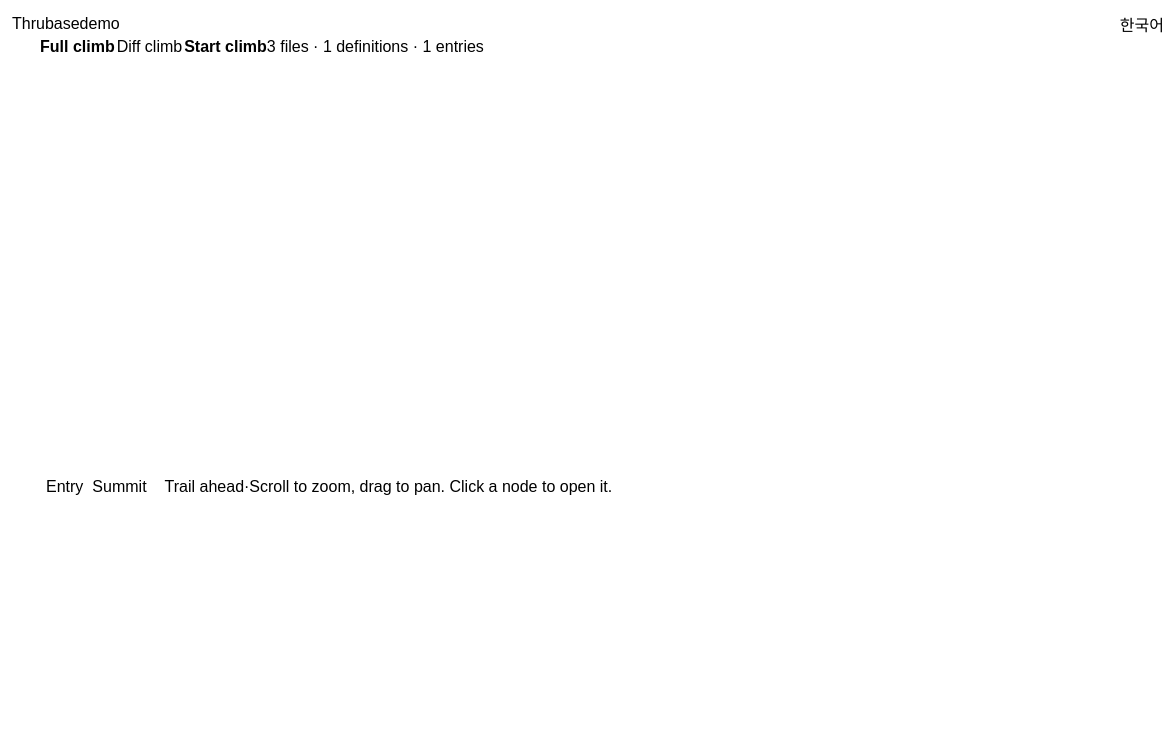
Test: App › shows the no-changes notice for a diff climb without changes
The width and height of the screenshot is (1176, 732).
Expected: the button "Start climb" is shown, [184, 38, 267, 56]
Click the tab "Diff climb" at (149, 47), box [117, 38, 182, 56]
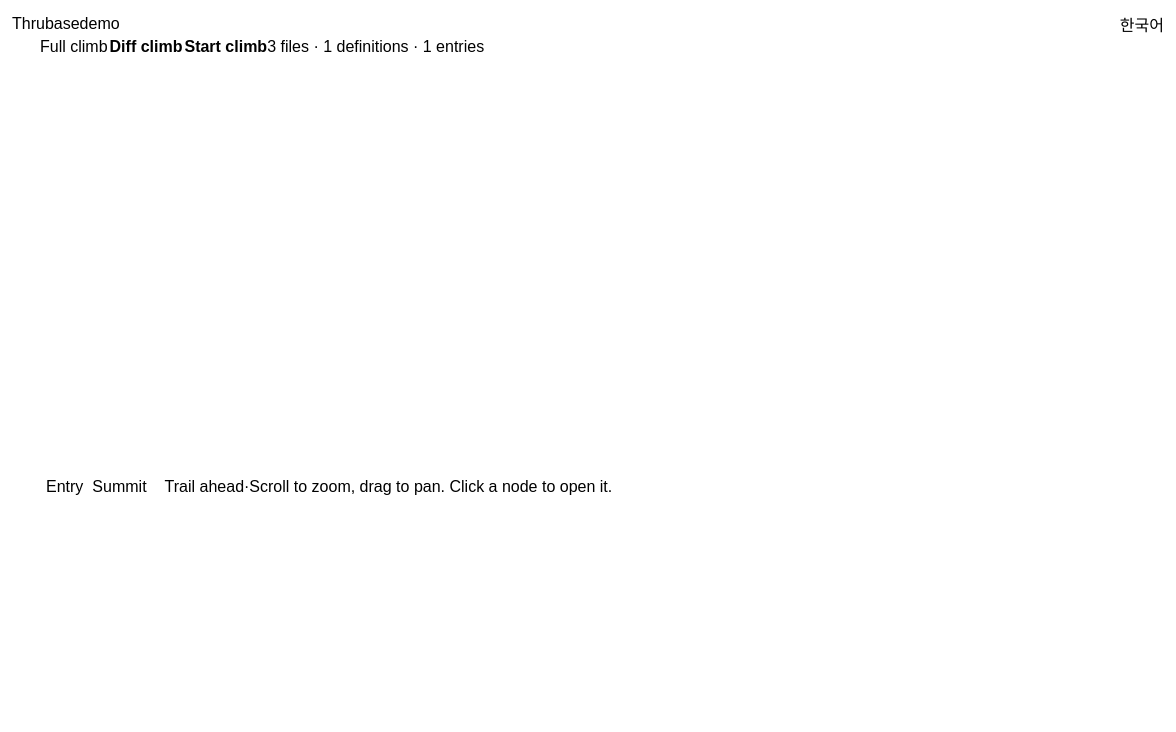
Click the button "Start climb" at (226, 47), box [184, 38, 267, 56]
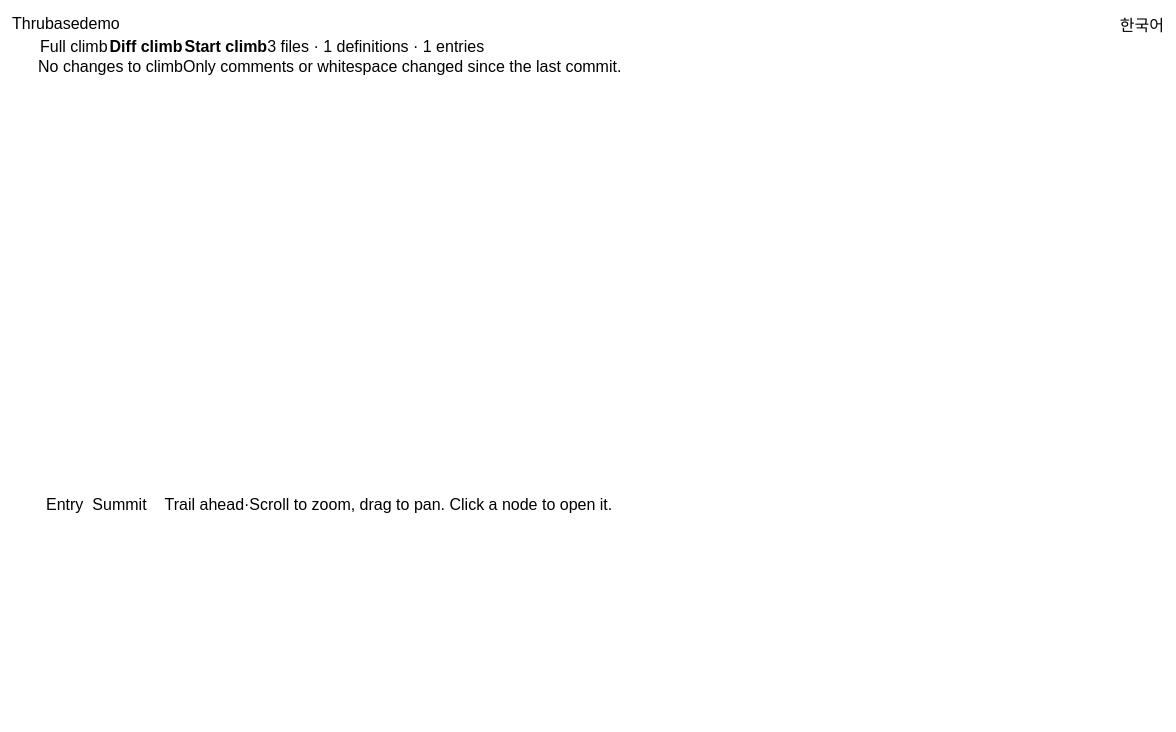
Expected: the heading "No changes to climb" is shown, [38, 58, 183, 76]
